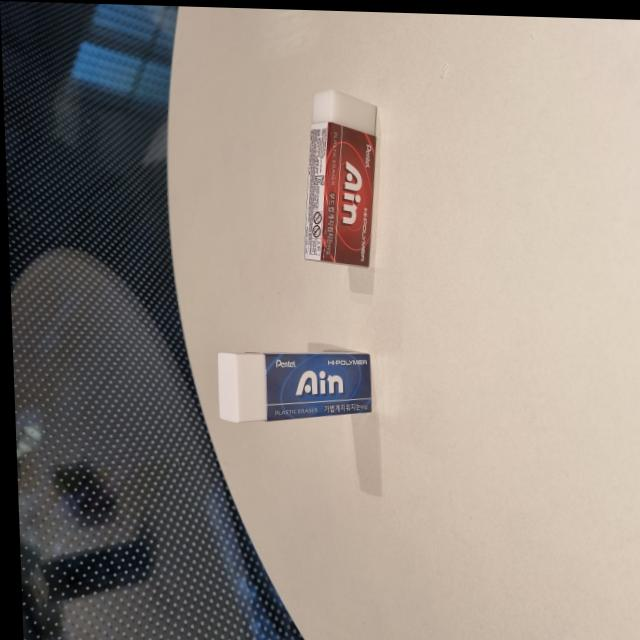blue: (209, 331, 376, 432)
red: (292, 73, 391, 269)
